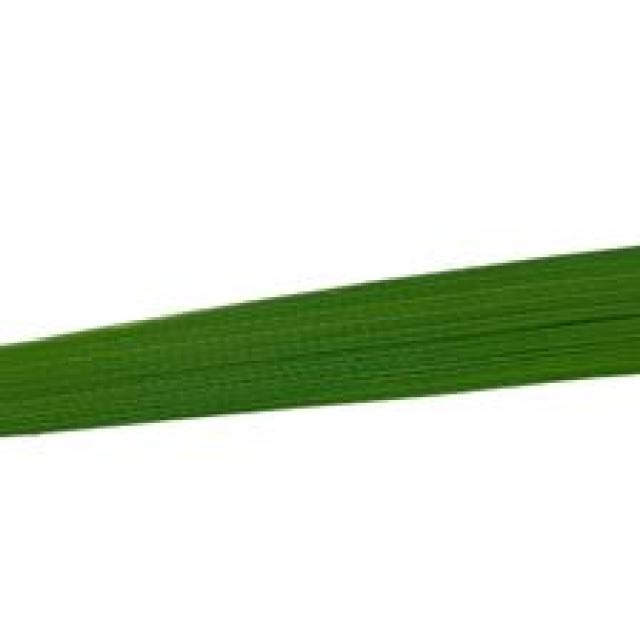Rice___Healthy_Rice_Plant: (0, 246, 637, 438)
